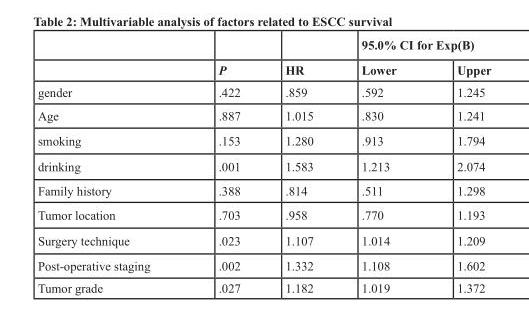table: (36, 37, 490, 294)
table column: (36, 37, 183, 294), (336, 37, 426, 294), (183, 37, 262, 294), (262, 37, 336, 294), (426, 37, 490, 294)
table column header: (36, 37, 490, 80)
table row: (36, 127, 490, 153), (36, 153, 490, 178), (36, 202, 490, 227), (36, 227, 490, 252), (36, 56, 490, 80), (36, 103, 490, 127), (36, 178, 490, 202), (36, 252, 490, 276), (36, 80, 490, 103), (36, 37, 490, 56), (36, 276, 490, 294)
table spanning cell: (183, 37, 262, 80), (262, 37, 336, 80), (336, 37, 490, 56)
